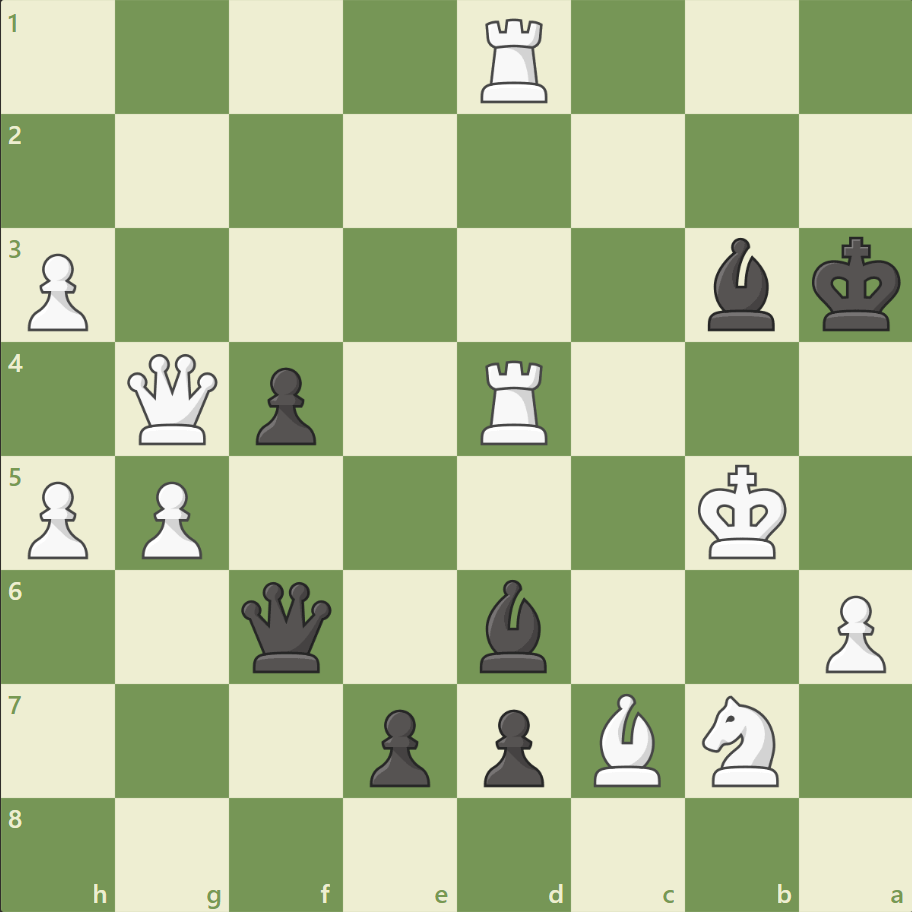B: (585, 687, 669, 790)
K: (692, 458, 792, 566)
N: (692, 688, 789, 791)
P: (133, 473, 208, 564), (20, 473, 95, 564), (20, 246, 95, 337), (815, 586, 889, 677)
Q: (124, 349, 223, 449)
R: (473, 352, 556, 449), (473, 12, 556, 109)
b: (698, 233, 782, 336), (471, 574, 555, 676)
k: (806, 231, 906, 339)
p: (474, 700, 549, 791), (247, 359, 322, 450), (361, 700, 435, 791)
q: (237, 576, 336, 676)
